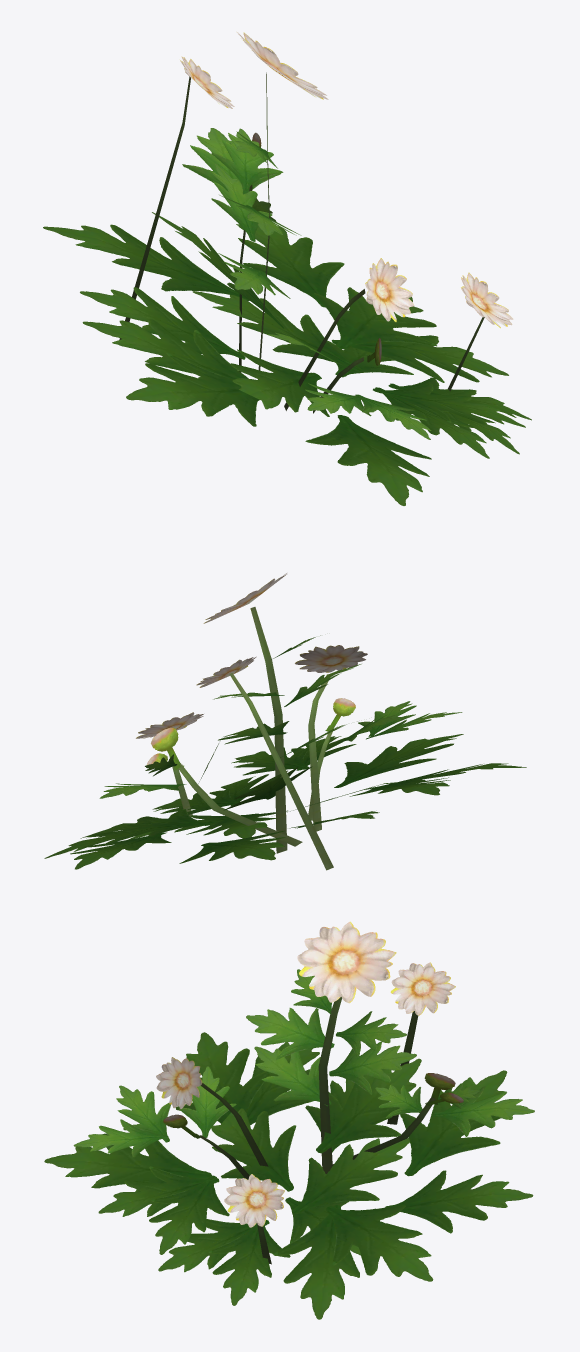
Rendered from map_xuanren_shu_5.fbx.
3 views of the same model, one above another, from view 1: azimuth 30°, elevation 25°; view 2: azimuth 150°, elevation 25°; view 3: azimuth 270°, elevation 25° (orthographic). The views are drawn at different scales.
Parts seen in each view (by area): view 1: polySurface552; view 2: polySurface552; view 3: polySurface552.
Part boxes in pixels (x1=…): polySurface552: x1=43, y1=32, x2=531, y2=505; polySurface552: x1=44, y1=573, x2=526, y2=870; polySurface552: x1=44, y1=921, x2=534, y2=1319.
Bounding box in the file's own units: 0.3234 × 0.2455 × 0.3813.
